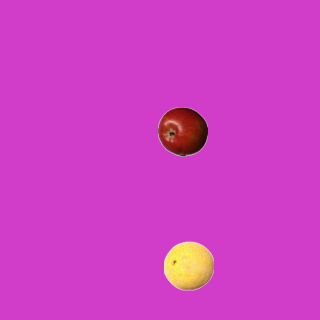Apple Braeburn: (157, 106, 207, 156)
Cantaloupe 1: (163, 240, 213, 290)
